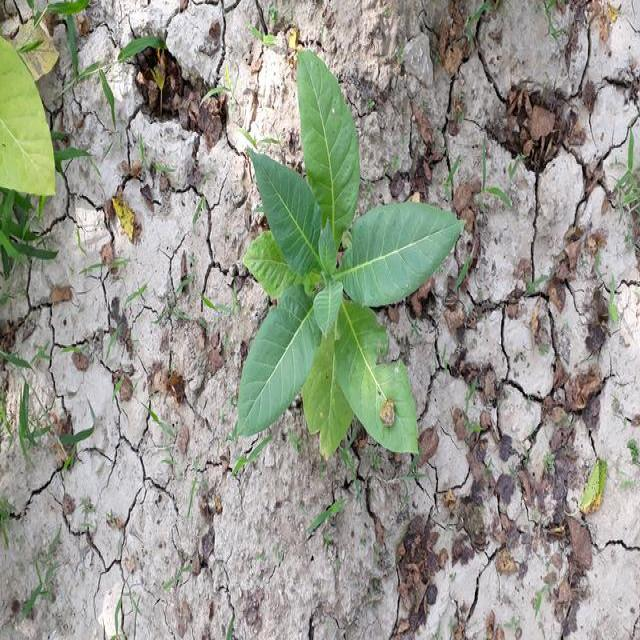crop: (230, 73, 450, 466), (0, 37, 66, 200)
